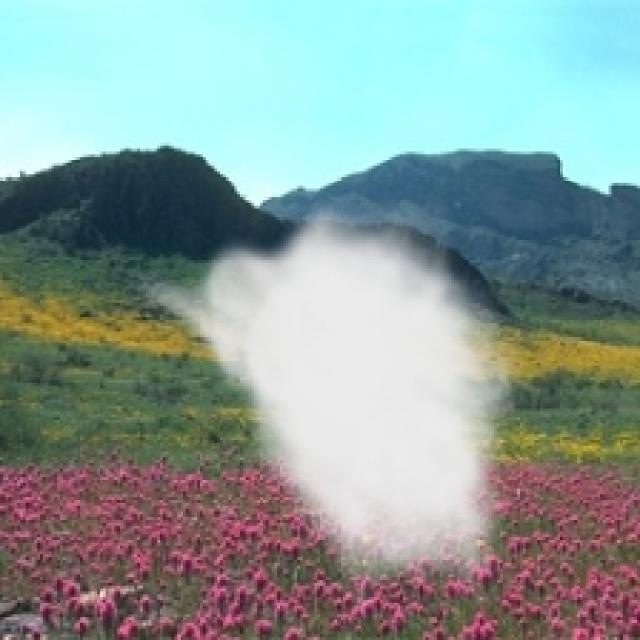Smoke: (123, 192, 526, 608)
